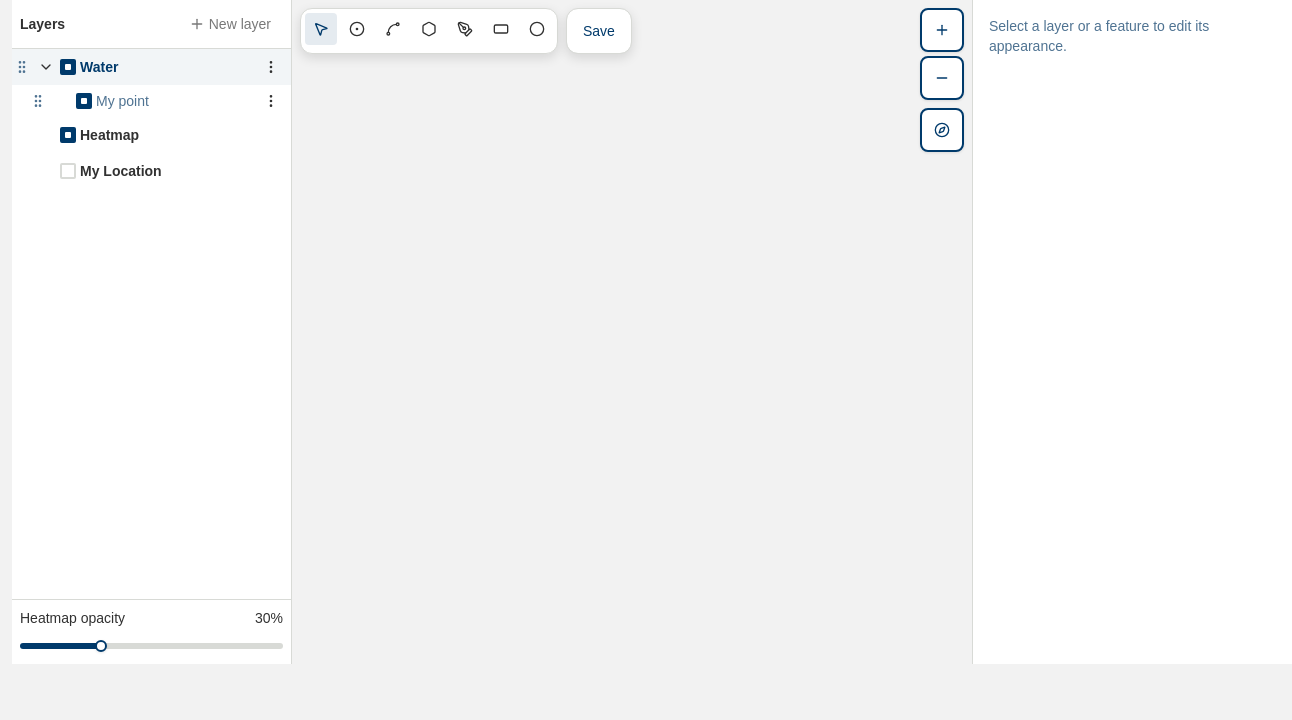
Test: WorkspacePage › deselects the current feature but keeps its layer selected when a drawing tool is chosen
Click the button "My point" at (176, 101), box x1=96 y1=91 x2=255 y2=111
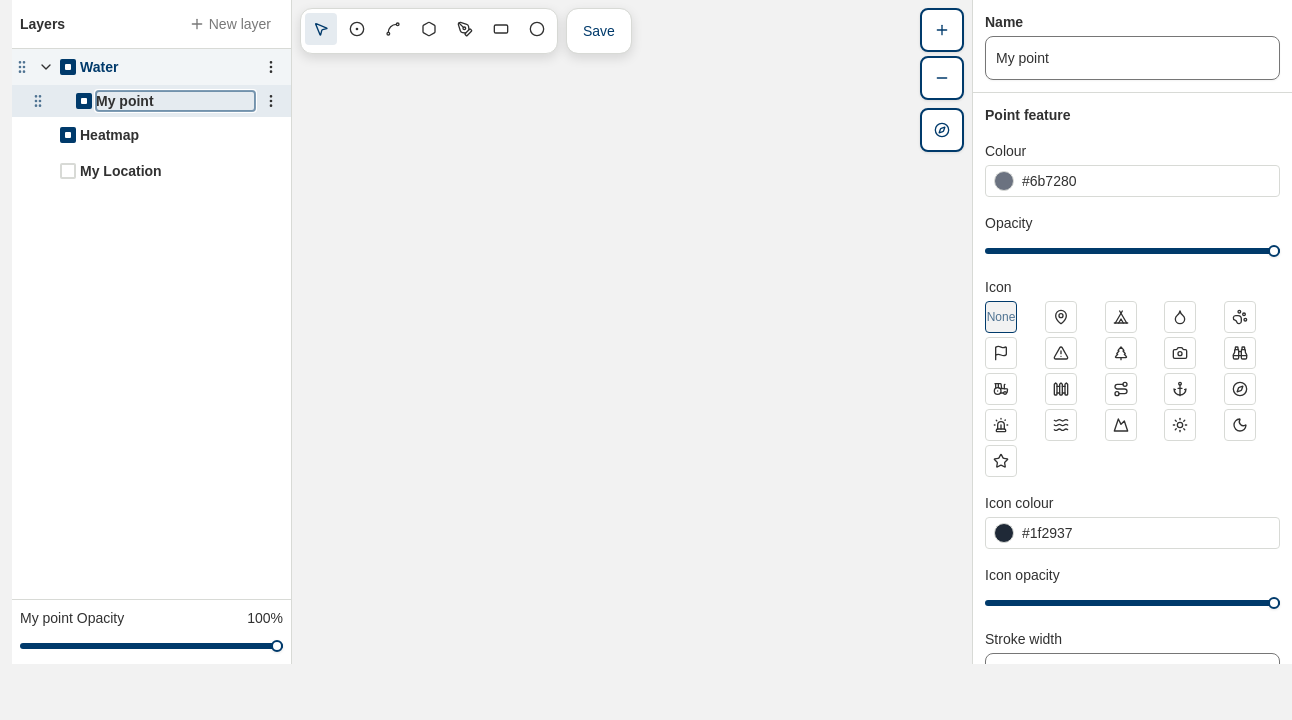
Expected: the text "Point feature" is shown, x1=985 y1=107 x2=1071 y2=123
Click the button named "Line" at (393, 29), box x1=377 y1=13 x2=409 y2=45
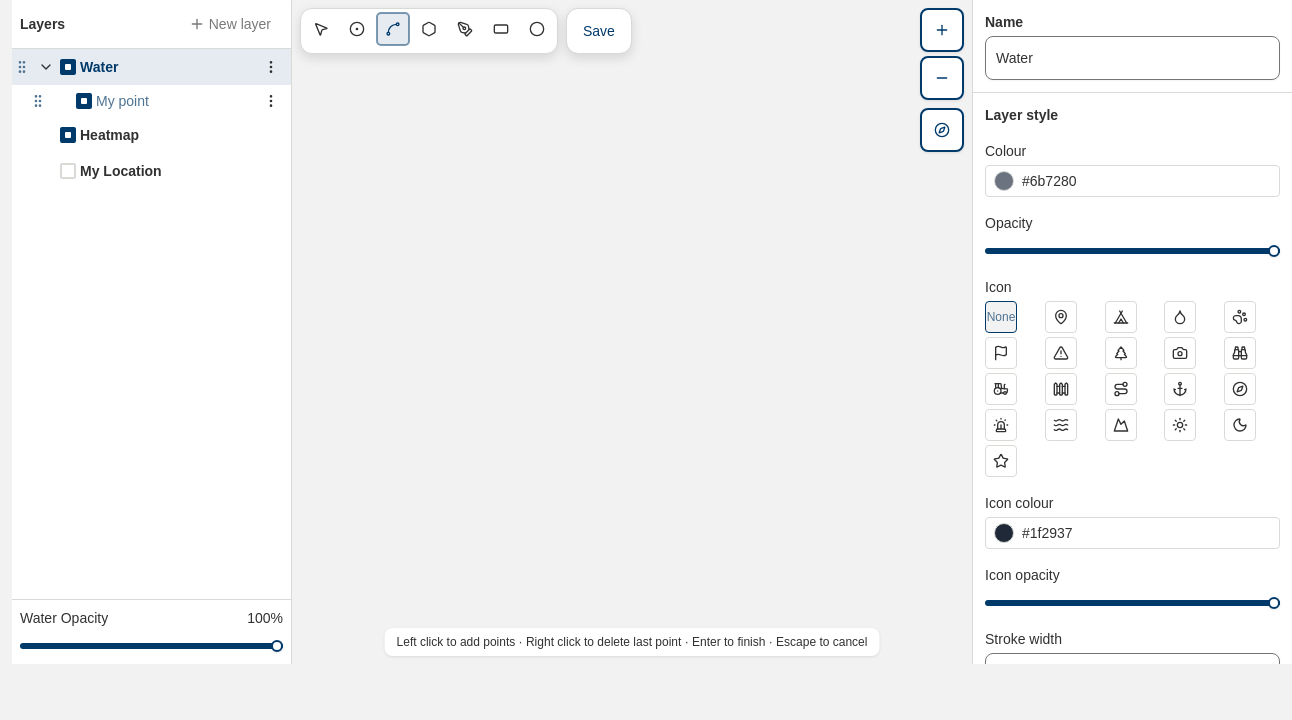
Expected: the text "Point feature" is gone
